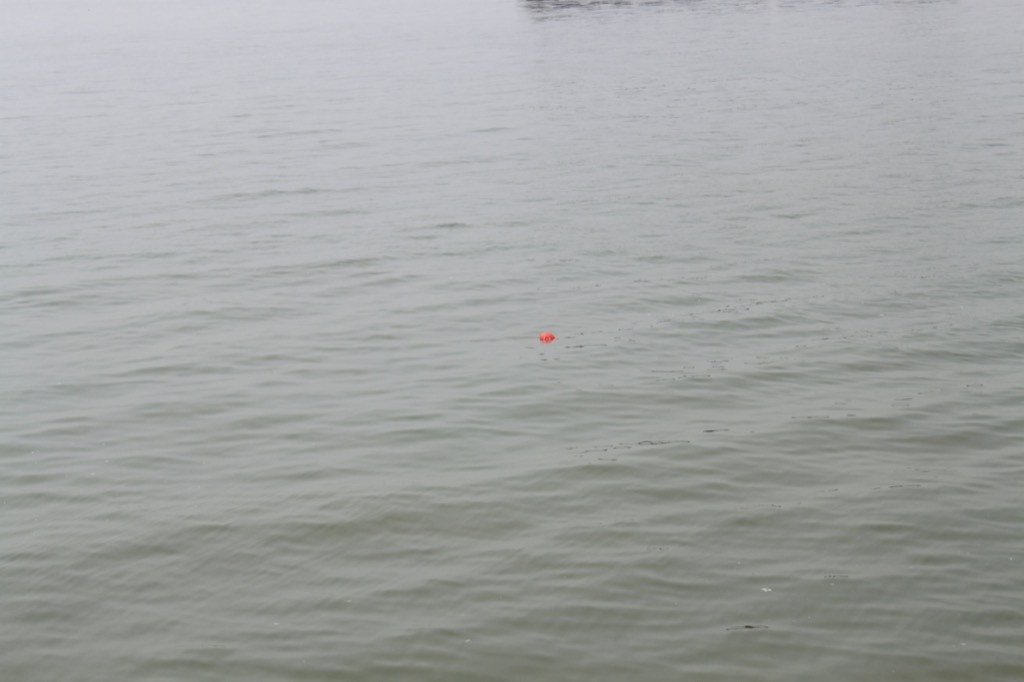organic: (720, 610, 781, 653)
plastic: (531, 326, 564, 356)
structure: (507, 1, 970, 59)
